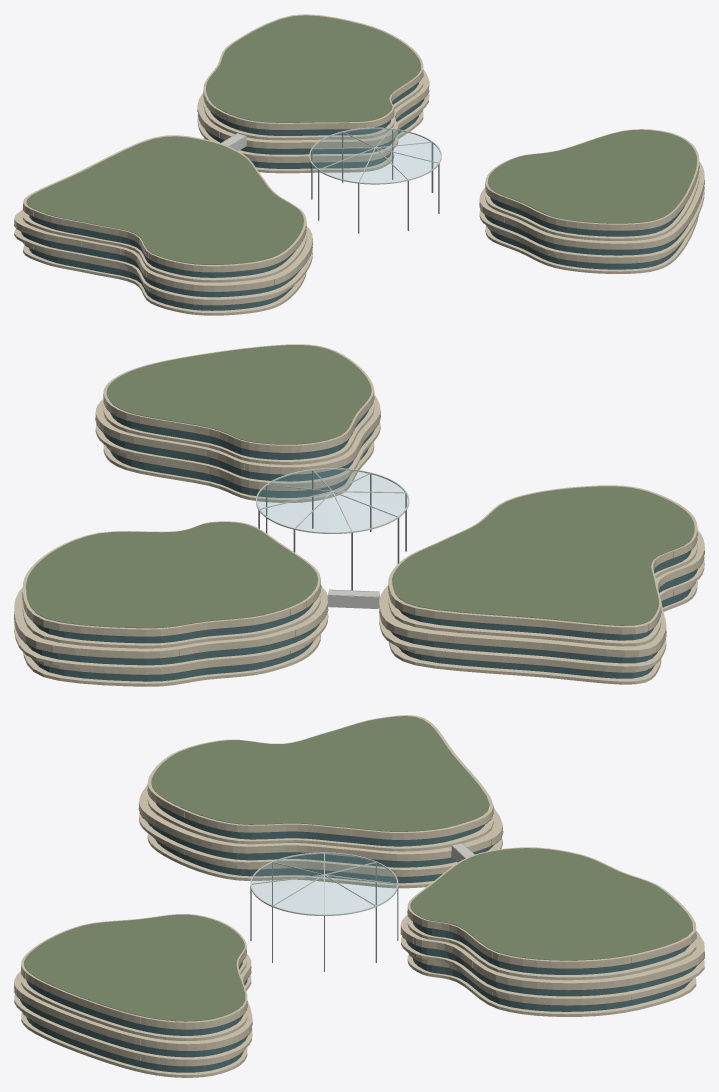
Rendered from bespoke-mecenatpolis-residential-podium.glb.
3 views of the same model, one above another, from view 1: azimuth 30°, elevation 25°; view 2: azimuth 150°, elevation 25°; view 3: azimuth 270°, elevation 25° (orthographic). The views are drawn at different scales.
Visible parts, largest first — view 1: limestone_curves_and_canyon_terraces001_1, limestone_curves_and_canyon_terraces001, retail_windows_and_bridges001_2, central_circular_canopy001_2, retail_windows_and_bridges001_1, central_circular_canopy001, central_circular_canopy001_1, retail_windows_and_bridges001_3; view 2: limestone_curves_and_canyon_terraces001_1, limestone_curves_and_canyon_terraces001, retail_windows_and_bridges001_2, central_circular_canopy001_2, retail_windows_and_bridges001_1, central_circular_canopy001, retail_windows_and_bridges001_3, central_circular_canopy001_1; view 3: limestone_curves_and_canyon_terraces001_1, limestone_curves_and_canyon_terraces001, retail_windows_and_bridges001_2, central_circular_canopy001_2, retail_windows_and_bridges001_1, central_circular_canopy001, retail_windows_and_bridges001_3, central_circular_canopy001_1.
Boxes of the visible parts, bbox=[...] form: limestone_curves_and_canyon_terraces001_1: bbox=[26, 15, 696, 264]; limestone_curves_and_canyon_terraces001: bbox=[14, 14, 704, 315]; retail_windows_and_bridges001_2: bbox=[21, 82, 687, 310]; central_circular_canopy001_2: bbox=[310, 128, 440, 182]; retail_windows_and_bridges001_1: bbox=[14, 70, 704, 305]; central_circular_canopy001: bbox=[309, 127, 441, 184]; central_circular_canopy001_1: bbox=[311, 130, 439, 233]; retail_windows_and_bridges001_3: bbox=[15, 73, 703, 304]; limestone_curves_and_canyon_terraces001_1: bbox=[26, 345, 694, 628]; limestone_curves_and_canyon_terraces001: bbox=[14, 344, 704, 686]; retail_windows_and_bridges001_2: bbox=[26, 410, 697, 681]; central_circular_canopy001_2: bbox=[257, 469, 407, 531]; retail_windows_and_bridges001_1: bbox=[14, 397, 704, 675]; central_circular_canopy001: bbox=[256, 468, 409, 533]; retail_windows_and_bridges001_3: bbox=[14, 393, 679, 674]; central_circular_canopy001_1: bbox=[258, 471, 406, 590]; limestone_curves_and_canyon_terraces001_1: bbox=[24, 716, 692, 1021]; limestone_curves_and_canyon_terraces001: bbox=[14, 715, 704, 1077]; retail_windows_and_bridges001_2: bbox=[20, 803, 697, 1072]; central_circular_canopy001_2: bbox=[252, 853, 396, 914]; retail_windows_and_bridges001_1: bbox=[14, 789, 704, 1066]; central_circular_canopy001: bbox=[250, 852, 398, 915]; retail_windows_and_bridges001_3: bbox=[14, 803, 685, 1065]; central_circular_canopy001_1: bbox=[250, 863, 398, 971].
Bounding box in the file's own units: 154 × 15.09 × 143.
